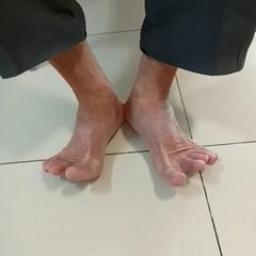Front View -Both Feet-: (25, 57, 244, 212)
